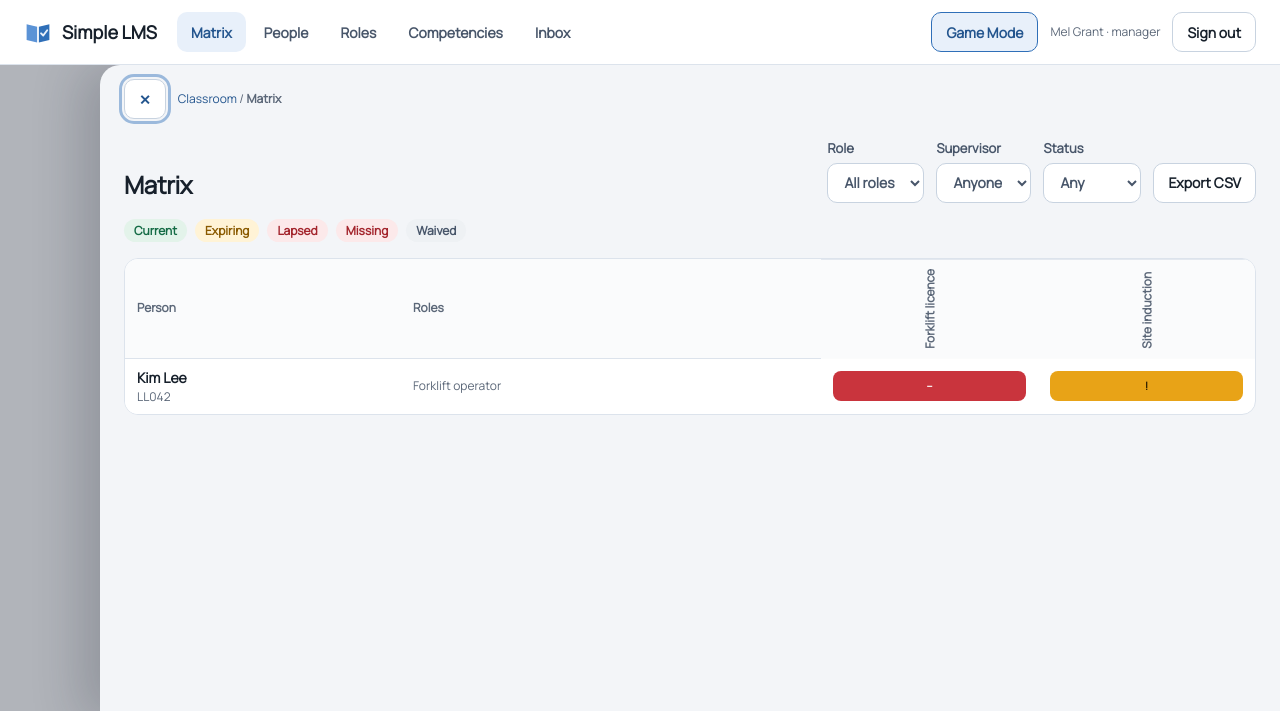
Test: the matrix › opens a cell's history and records a completion, and the cell goes green
The width and height of the screenshot is (1280, 711).
Click the button named "Kim Lee, Forklift licence: Missing". click: click(930, 386)
box: [833, 371, 1026, 401]
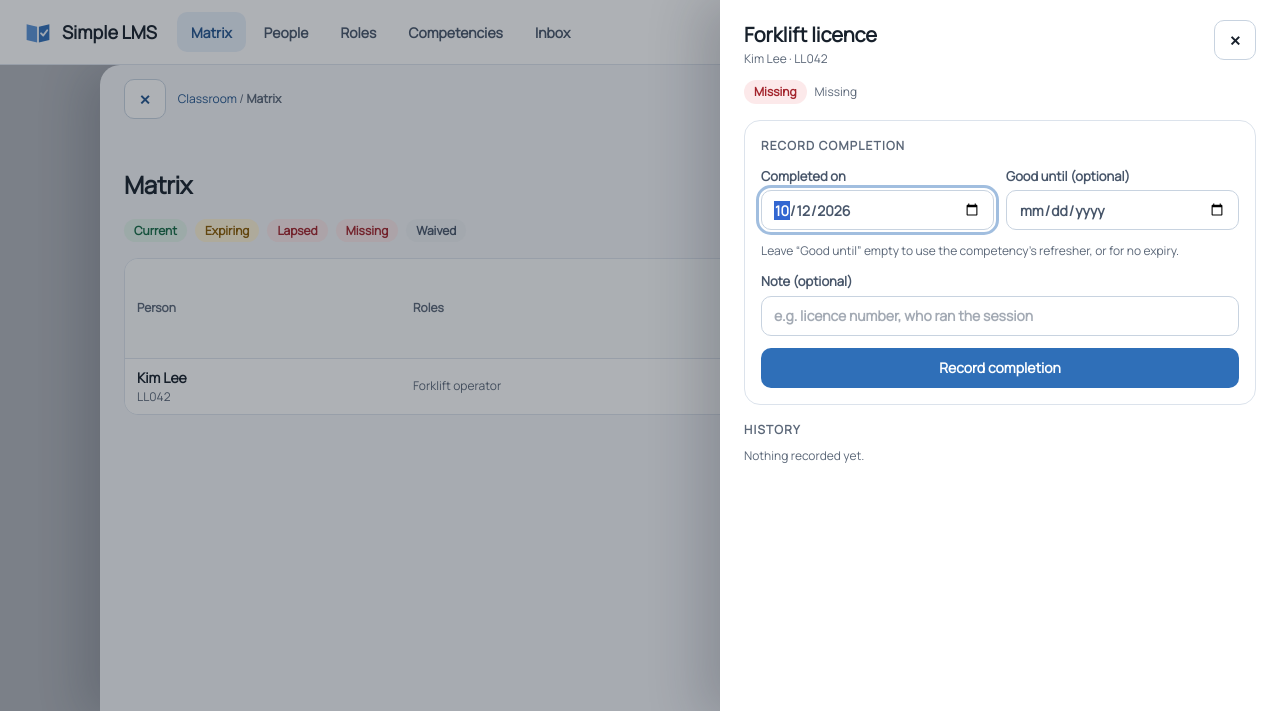
Check: the text "Nothing recorded yet." is shown, box [744, 447, 864, 464]
Type "2031-03-01" into the date field labelled "Good until (optional)". click: (1122, 210)
box: [1006, 190, 1239, 230]
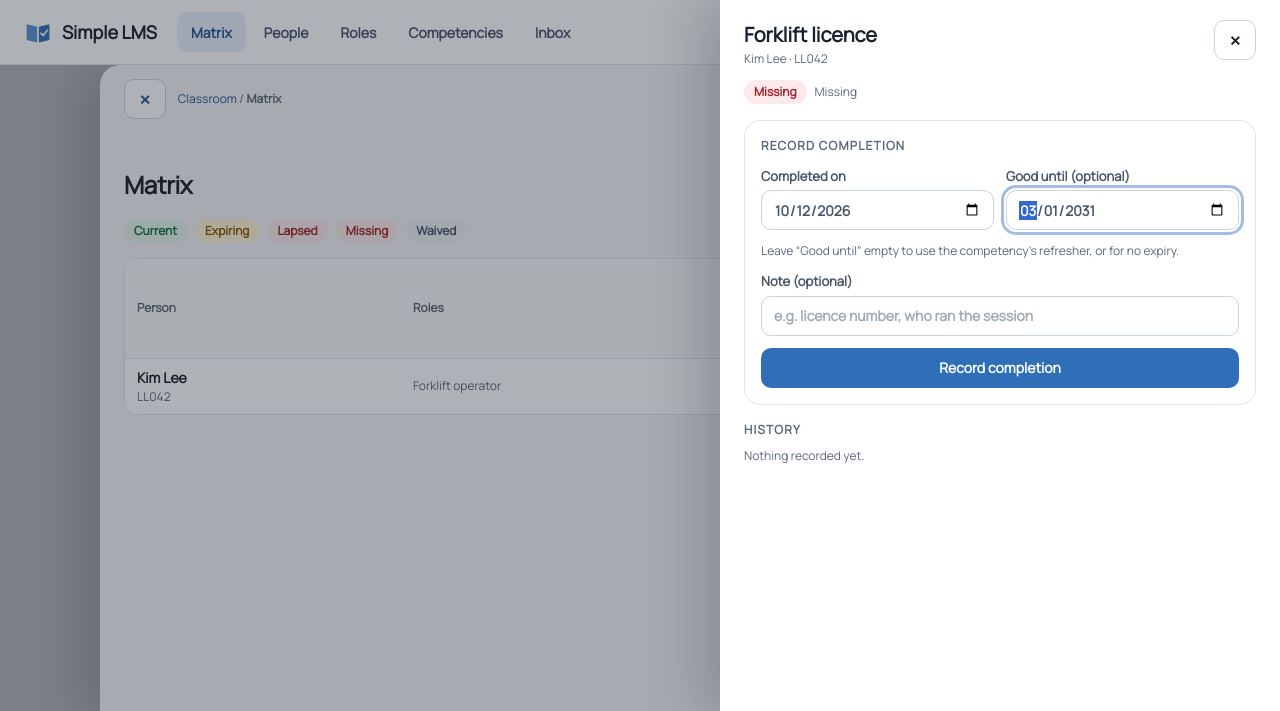
Type "LF 0012345, sighted" into the field labelled "Note (optional)". click: (1000, 316)
box: [761, 296, 1239, 336]
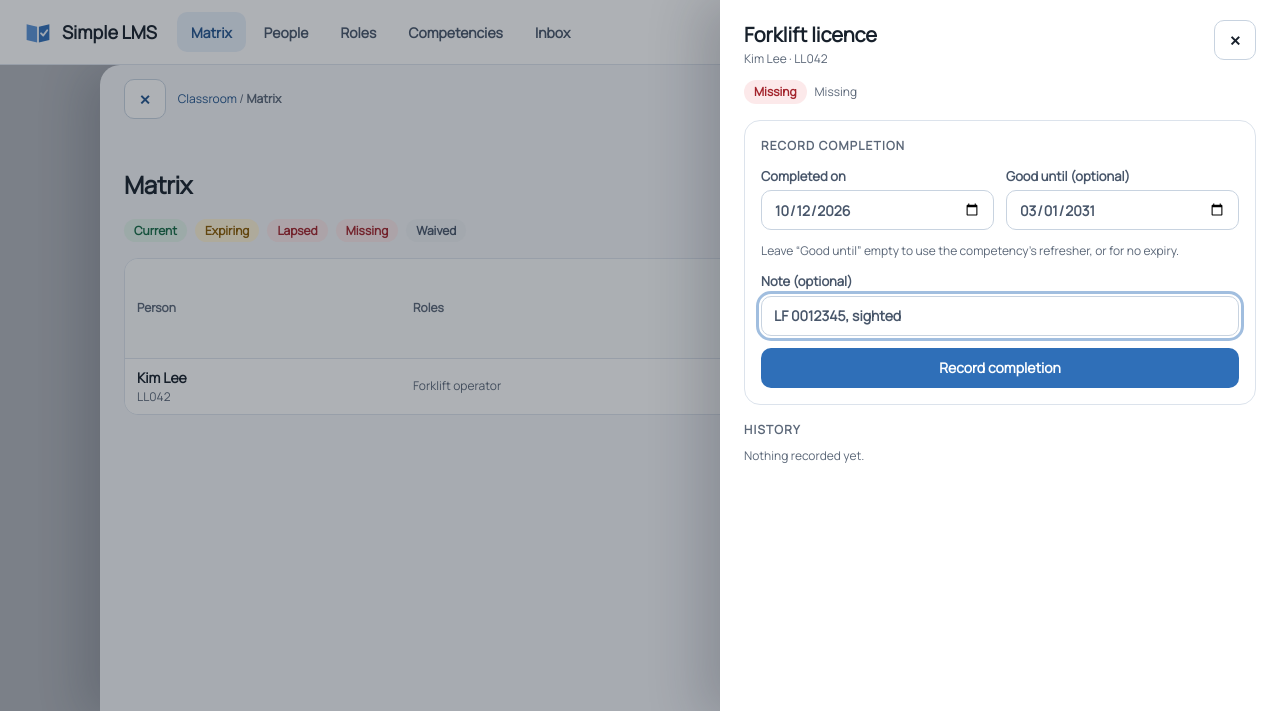
Click the button "Record completion". click: click(1000, 368)
box: [761, 348, 1239, 388]
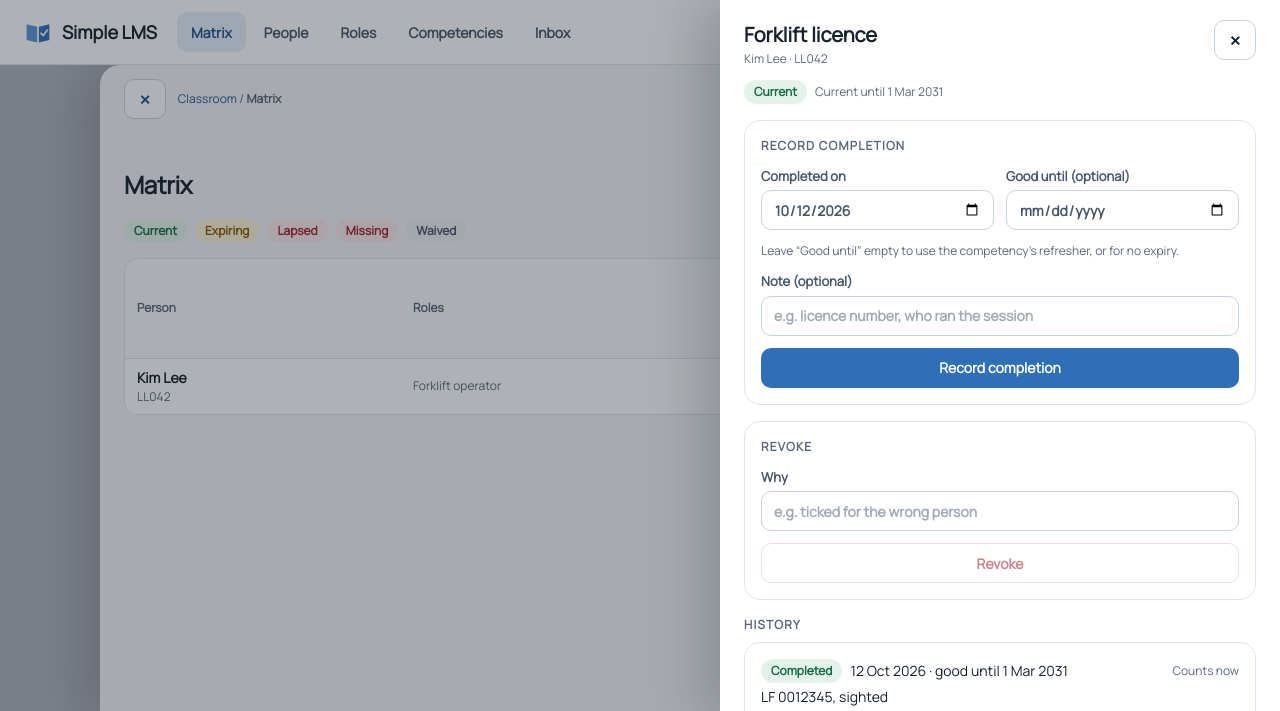
Check: the text "LF 0012345, sighted" is shown, box [761, 687, 888, 706]
Check: the button "Revoke" is disabled, box [761, 543, 1239, 583]
